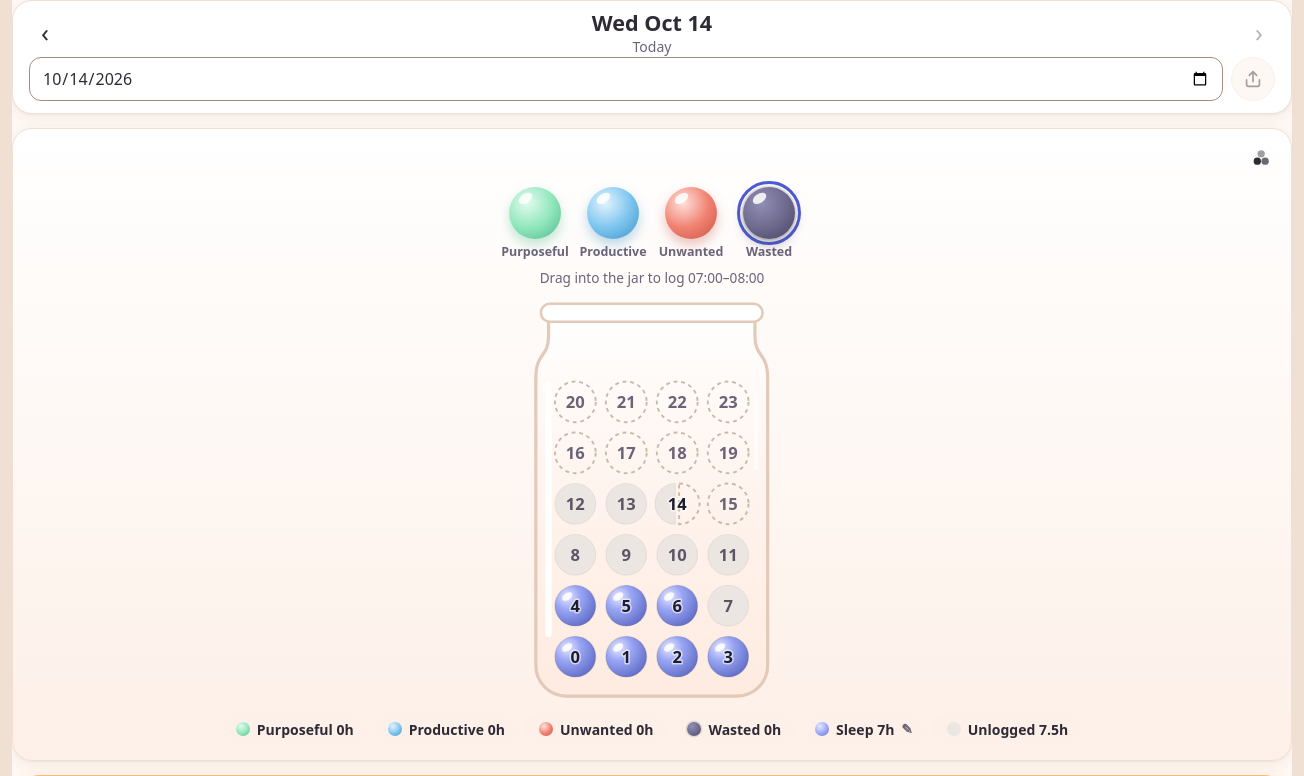
Test: DayView drag-to-drop tray › logs on Enter without opening a sheet
Click the button named "Log 07:00–08:00 as Wasted".
click(769, 213)  # box 743,187 -> 795,239
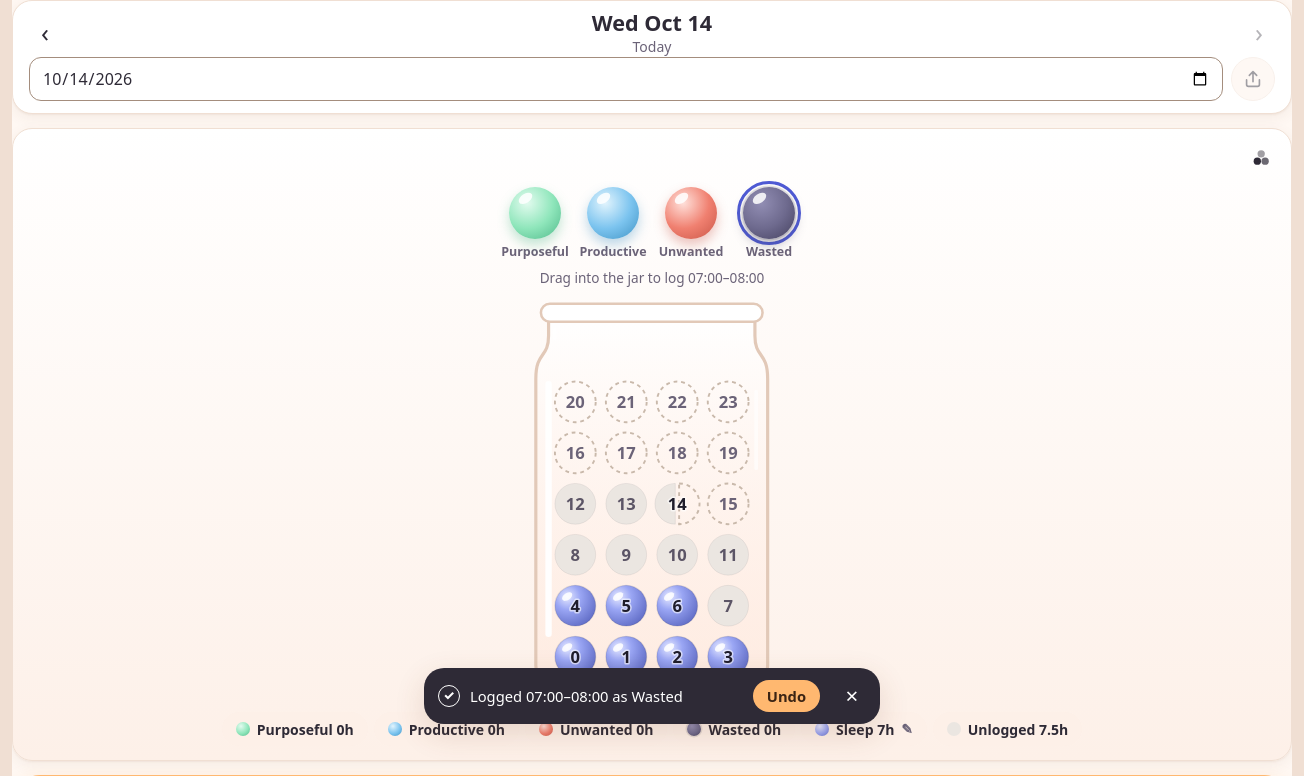
Now the text "Logged 07:00–08:00 as Wasted" is shown, box 470,686 -> 683,706
